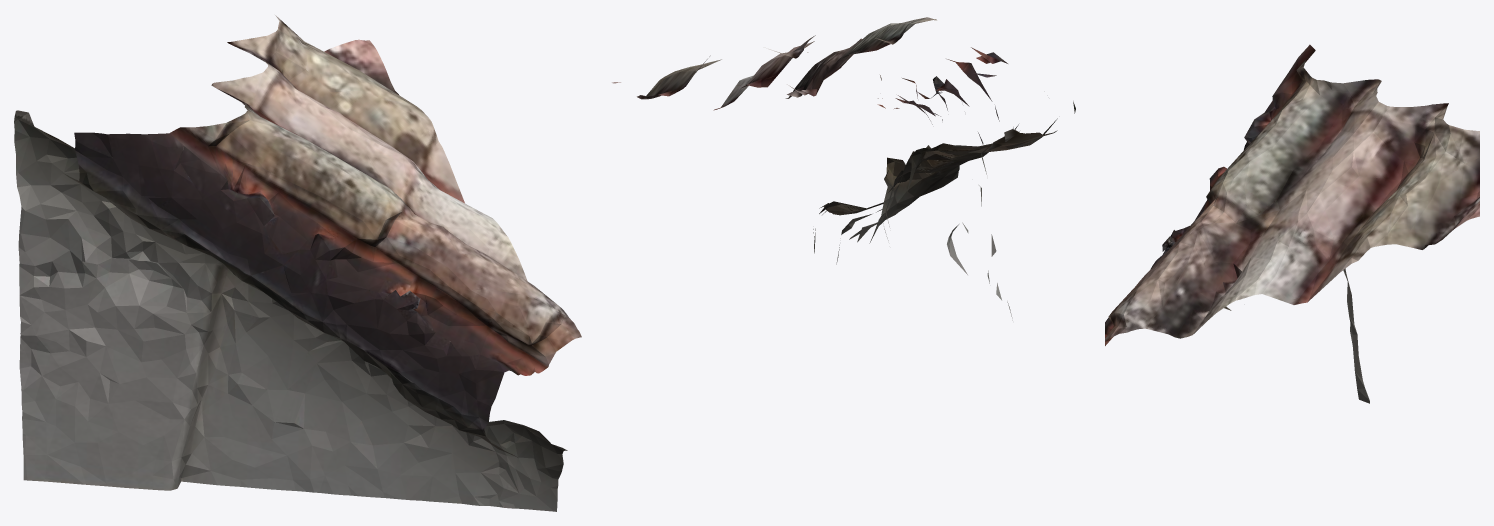
The picture shows the model from 3 angles, left to right: view 1: azimuth 30°, elevation 25°; view 2: azimuth 150°, elevation 25°; view 3: azimuth 270°, elevation 25°; orthographic projection. The views are drawn at different scales.
Bounding box in the file's own units: 0.8373 × 0.8373 × 0.8374.
Materials: 4 (4 with a texture image).
